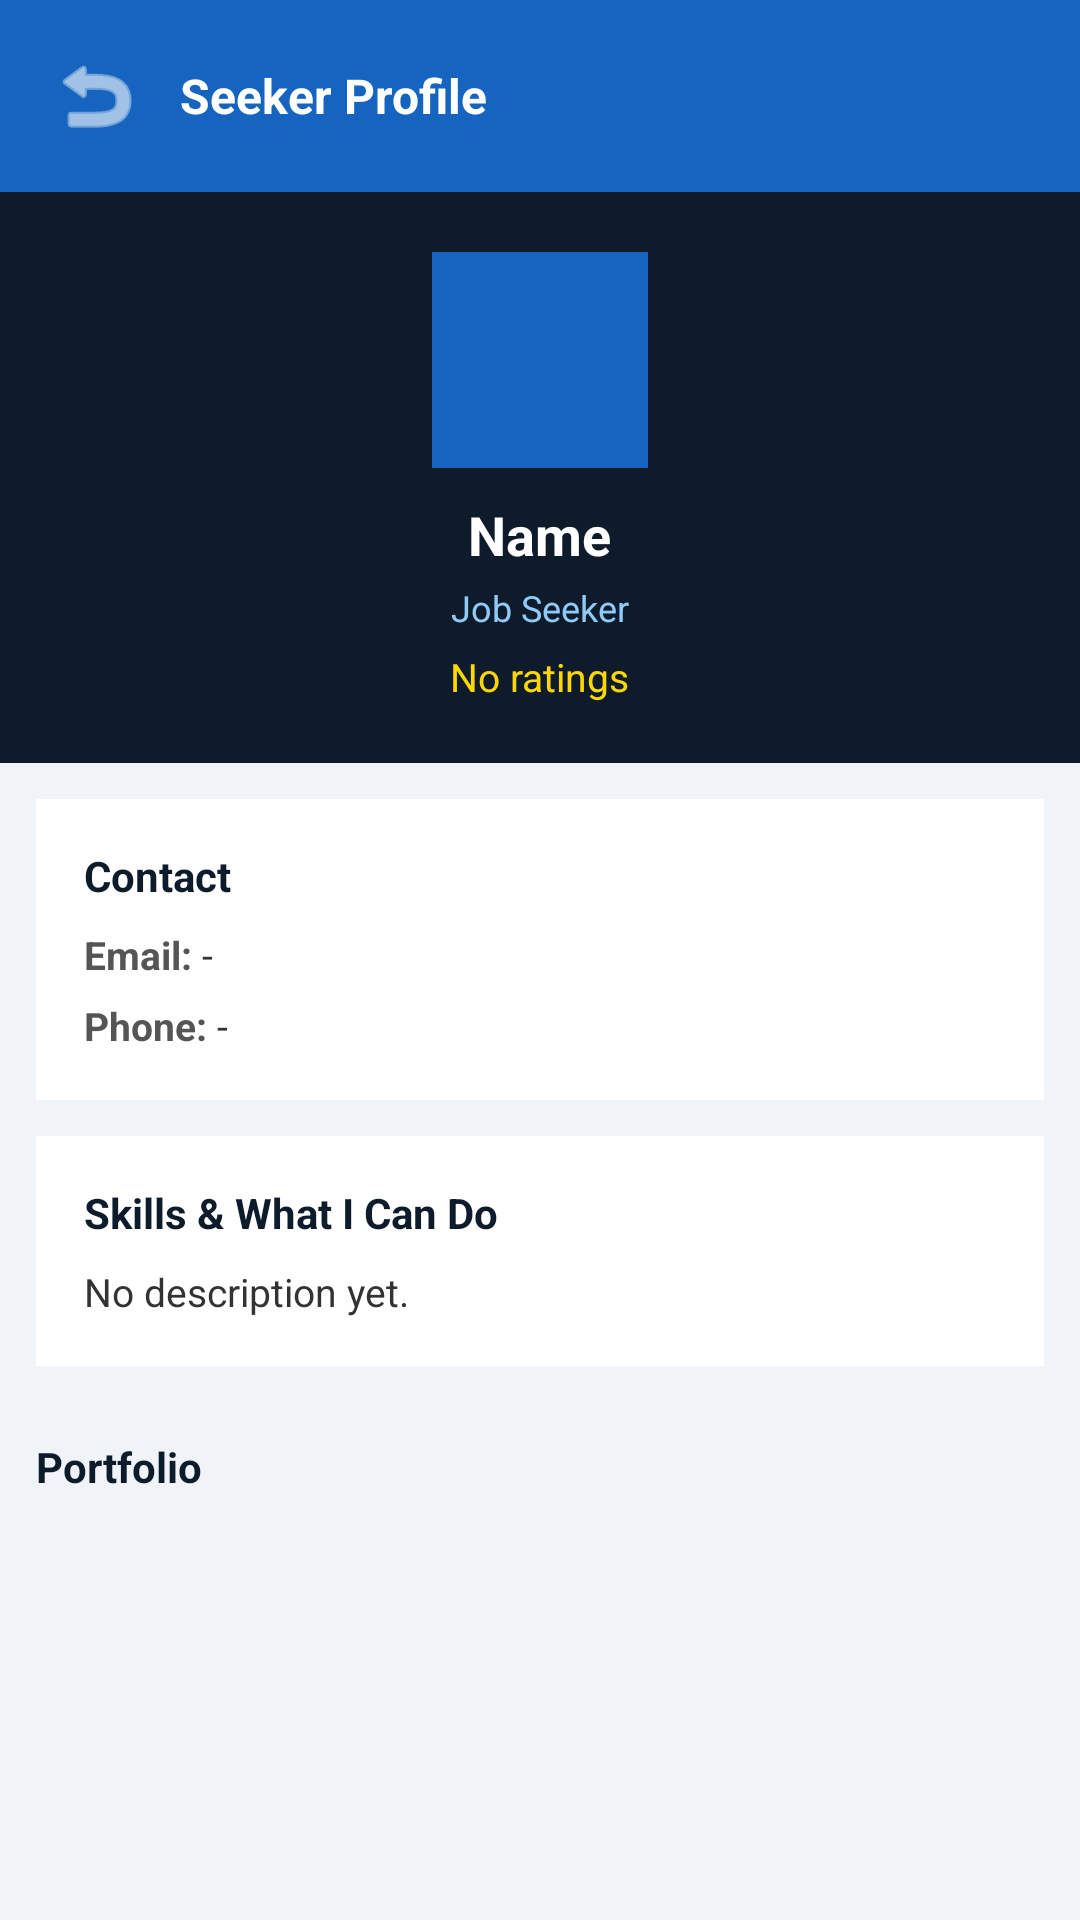

Locate icon controls on the screen. Image size 1080w x 1920h, boxes as (x1, y1, x2, y2).
Back: (63, 65, 132, 128)
